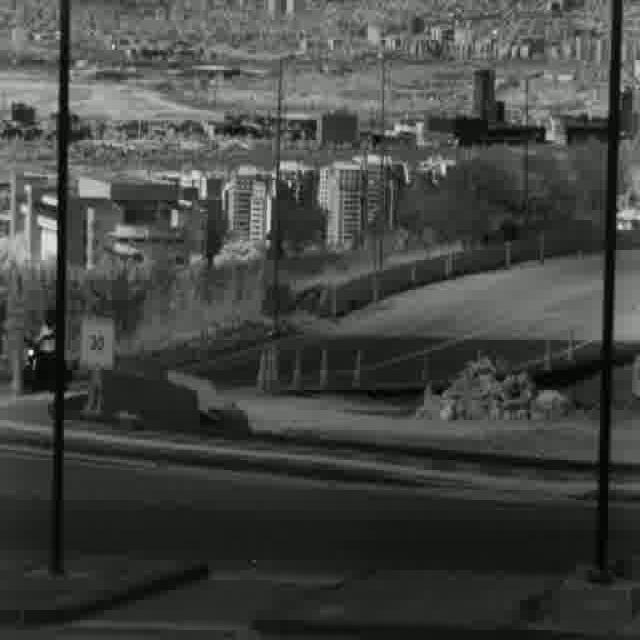Motorcycle: (21, 306, 72, 396)
